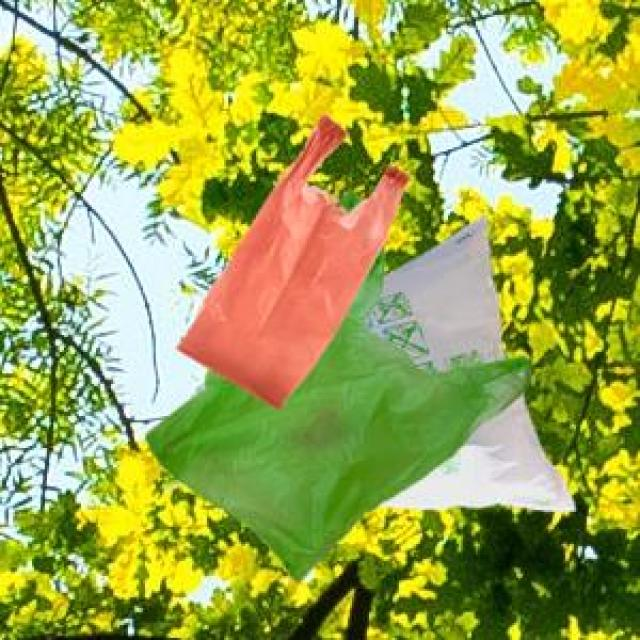plastic: (109, 80, 608, 609)
